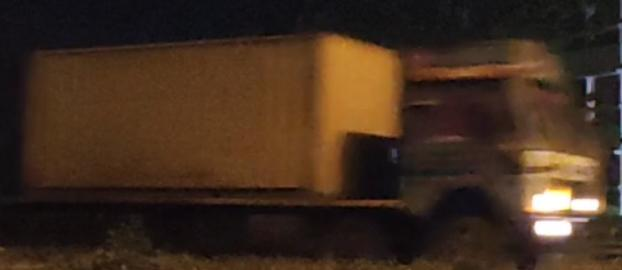Truck: (16, 32, 594, 270)
